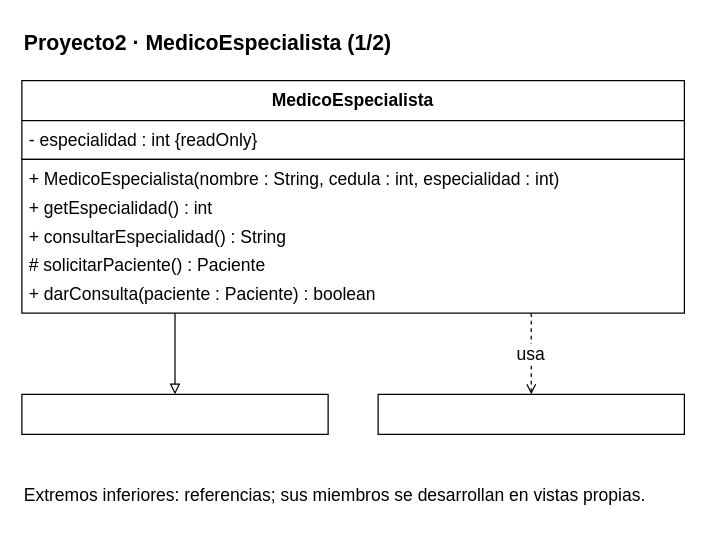
The diagram is 706 pixels wide and 540 high, and some of its shapes have lost their labels. Here are the shapes that lost their labels. From the top down, the centre of each, then its label:
At point 174,413: "Medico".
At point 530,413: "Paciente".
